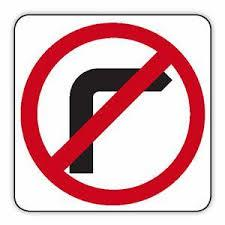no_right_turn: (20, 22, 204, 204)
